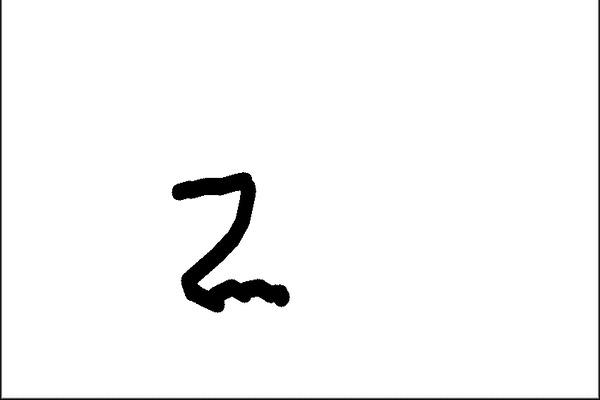Z: (163, 165, 298, 313)
